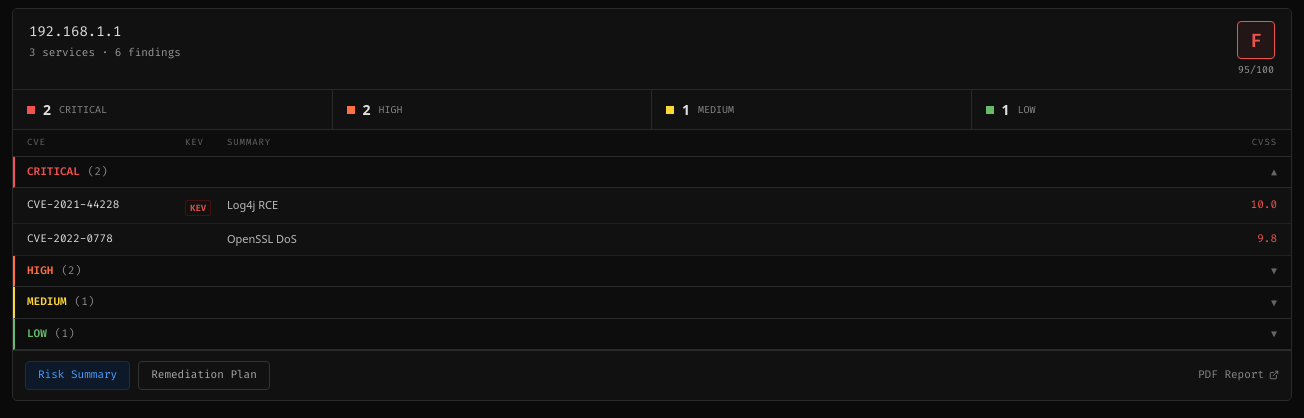
ScanCard › collapses CRITICAL group when header clicked again
The image size is (1304, 418).
Click the button with test id "group-header-CRITICAL" at (53, 171), box left=13, top=156, right=1291, bottom=188
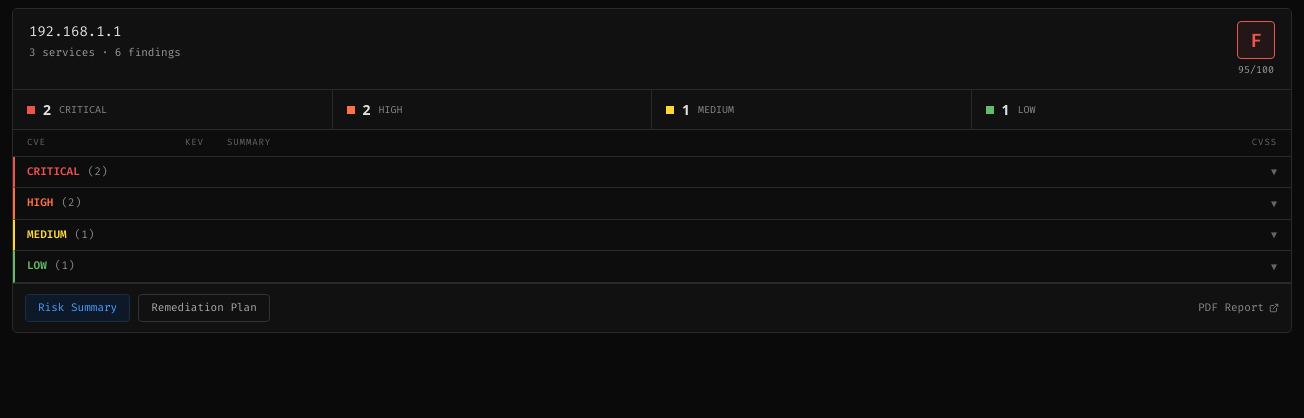
Expected: the element with test id "cve-row-CVE-2021-44228" is gone
